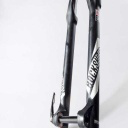fork: (46, 4, 102, 128)
